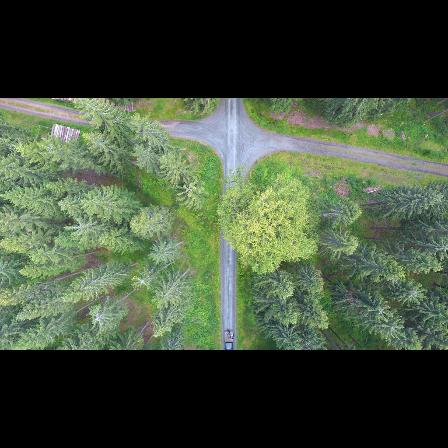Sick: (399, 286, 429, 309), (67, 216, 92, 242), (376, 319, 409, 338), (129, 270, 154, 294)
